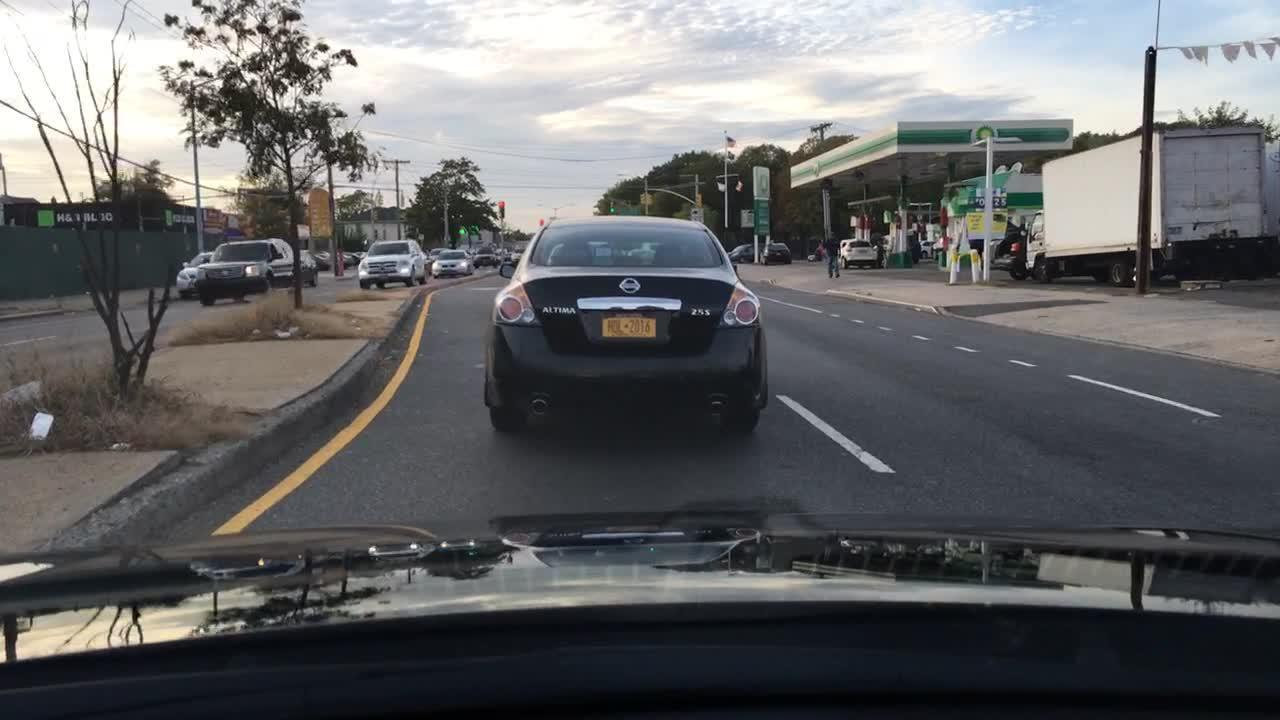Nissan: (616, 273, 644, 298)
